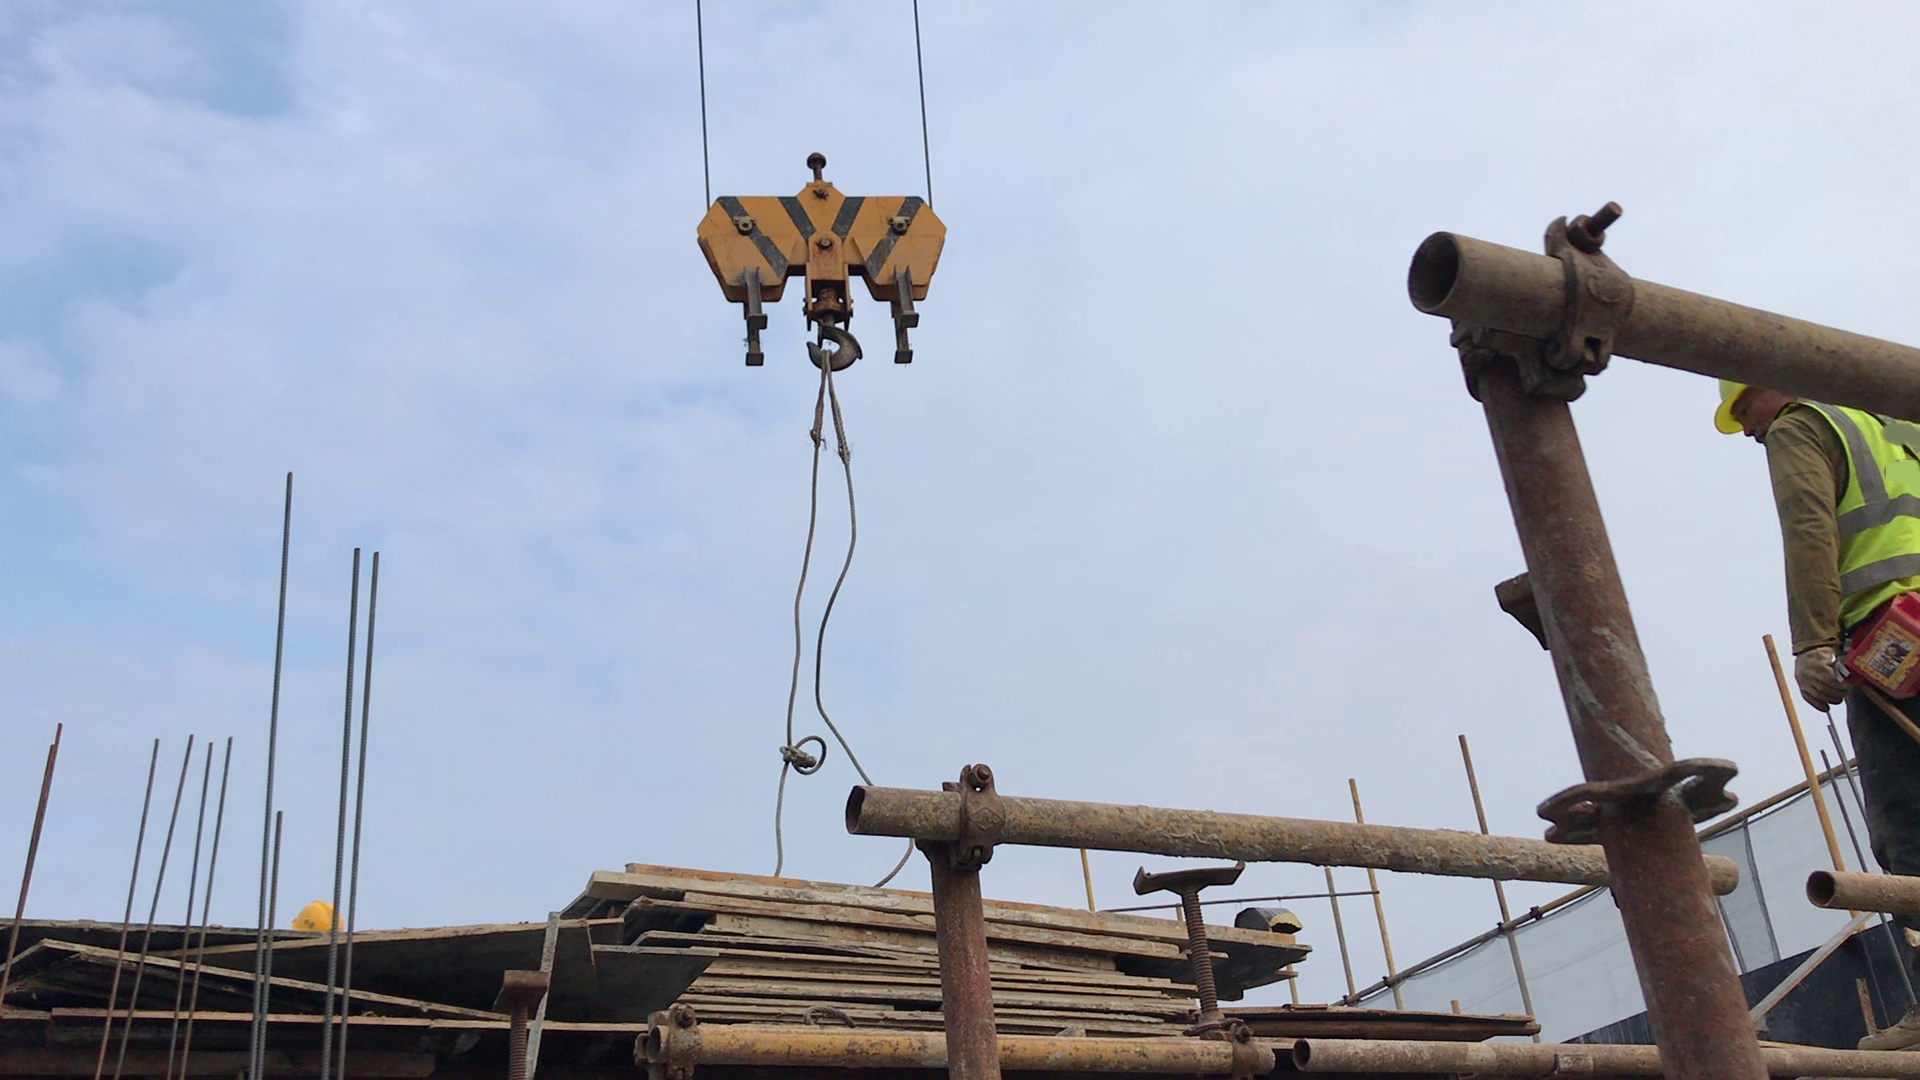board: (550, 835, 1316, 1035)
helmet: (284, 897, 345, 931)
hook: (689, 135, 965, 379)
person: (1684, 343, 1920, 924)
vest: (1791, 417, 1920, 650)
